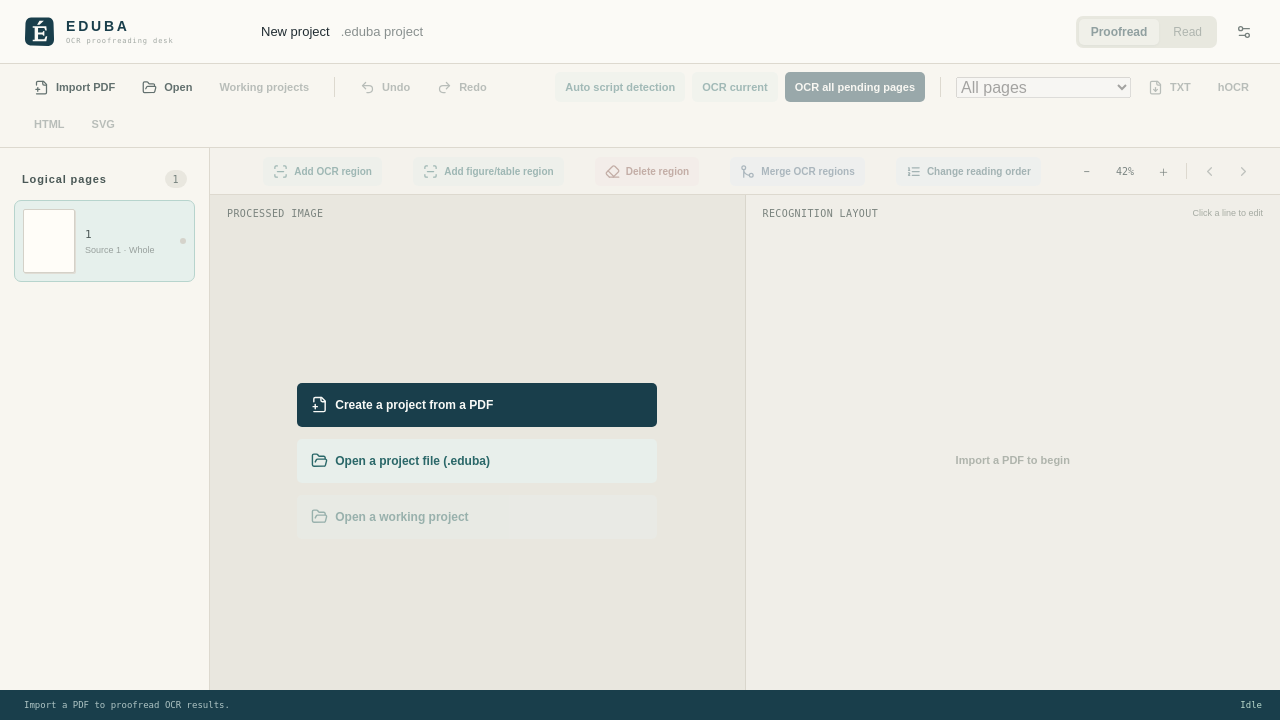
PDF import configuration › opens import settings after selecting a PDF without creating a project
The width and height of the screenshot is (1280, 720).
Step 1. Click the button "Import PDF" → (75, 87), box 24,72 -> 125,102
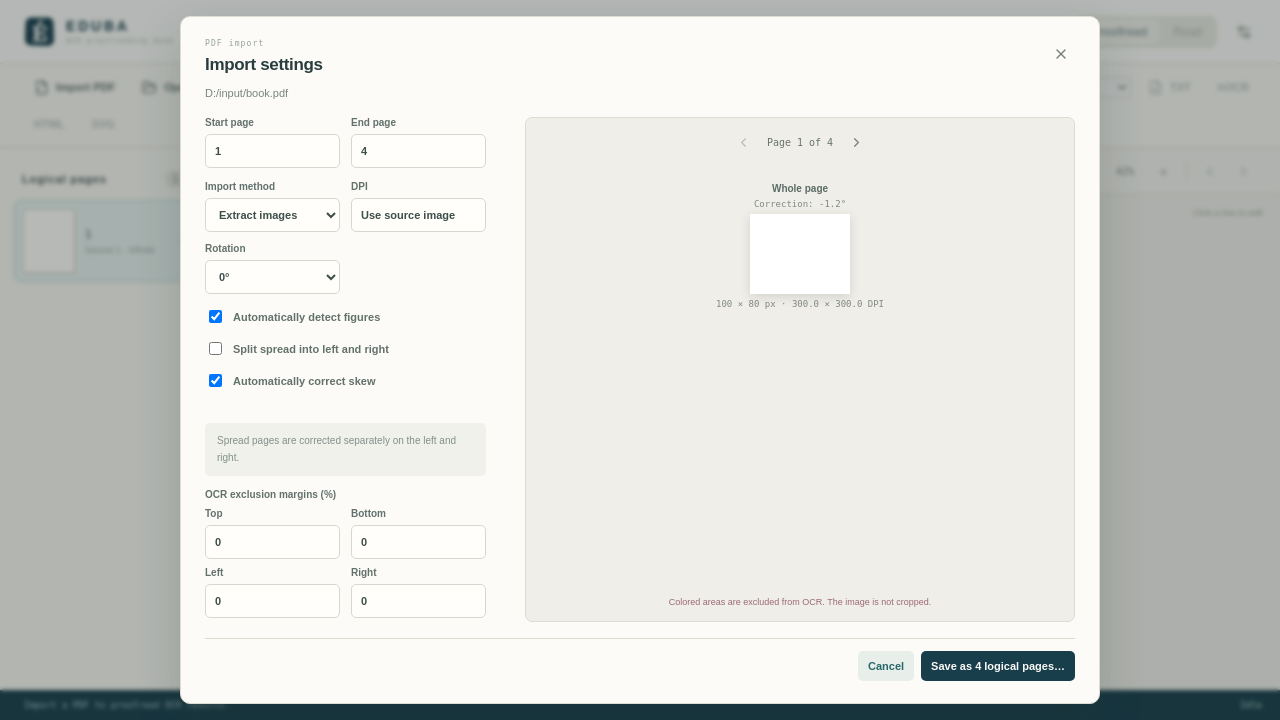
expect the dialog named "PDF import" is shown: met
